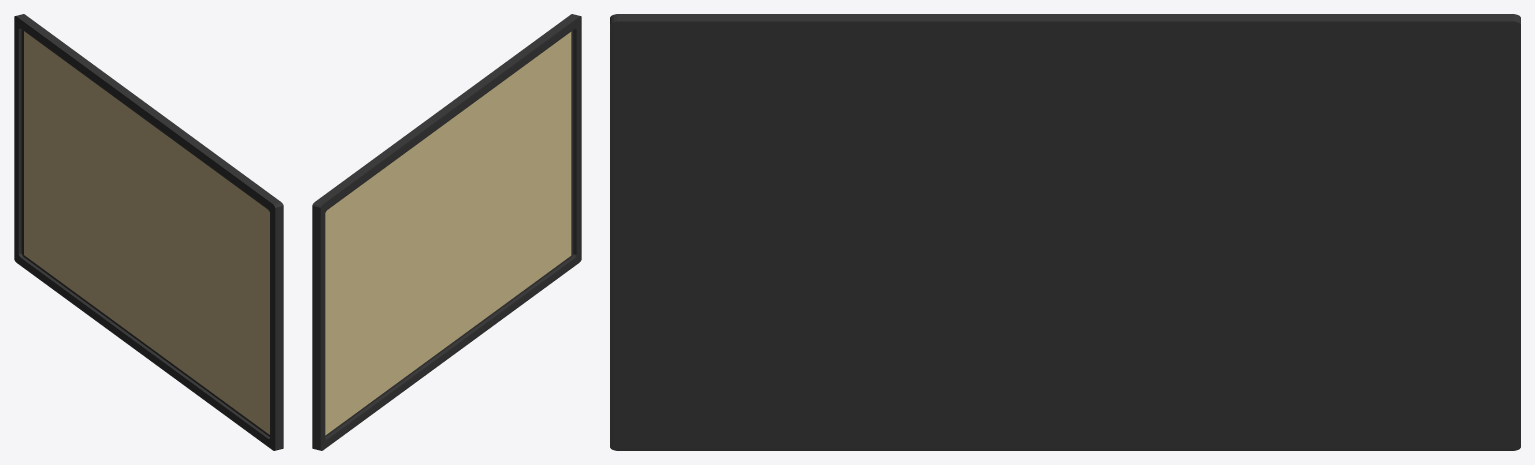
File: WallBoard.fbx
3 renders of one model, left to right at view 1: azimuth 30°, elevation 25°; view 2: azimuth 150°, elevation 25°; view 3: azimuth 270°, elevation 25°, orthographic. The views are drawn at different scales.
Visible parts, largest first — view 1: Cube.054; view 2: Cube.054; view 3: Cube.054.
Boxes of the visible parts, x1=… form: Cube.054: x1=14, y1=14, x2=283, y2=450; Cube.054: x1=312, y1=14, x2=581, y2=450; Cube.054: x1=610, y1=14, x2=1520, y2=450.
Size of the model in its own units: 10.58 by 289 by 555.
